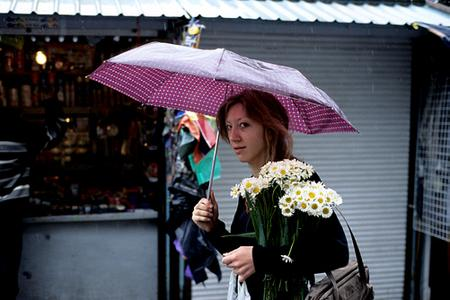person: (193, 89, 352, 300)
